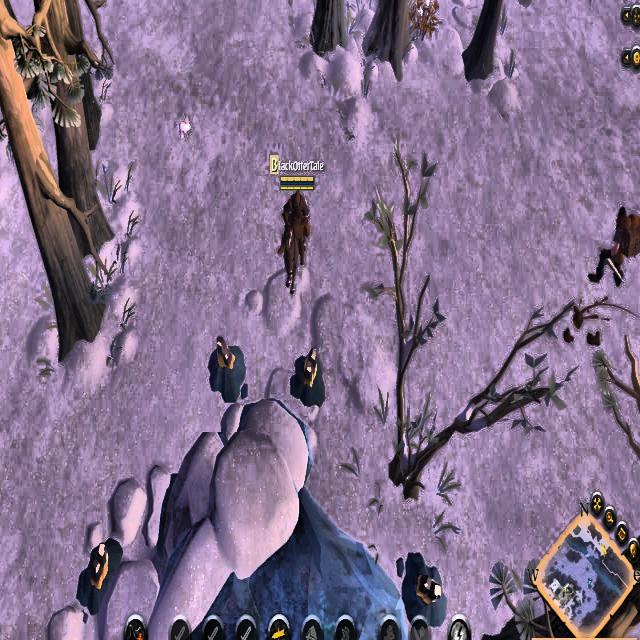copperore: (402, 544, 451, 628), (76, 531, 122, 607), (208, 332, 248, 409), (286, 344, 326, 412)
